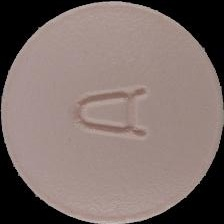66116-406: (0, 0, 224, 224)
